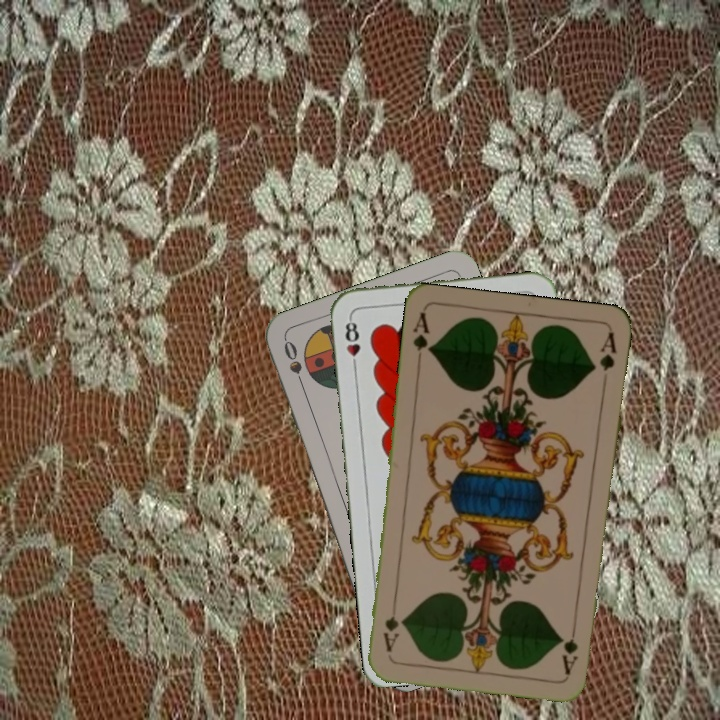GA: (409, 308, 435, 368), (558, 618, 580, 677)
H8: (340, 313, 363, 372)
SO: (280, 336, 308, 394)
